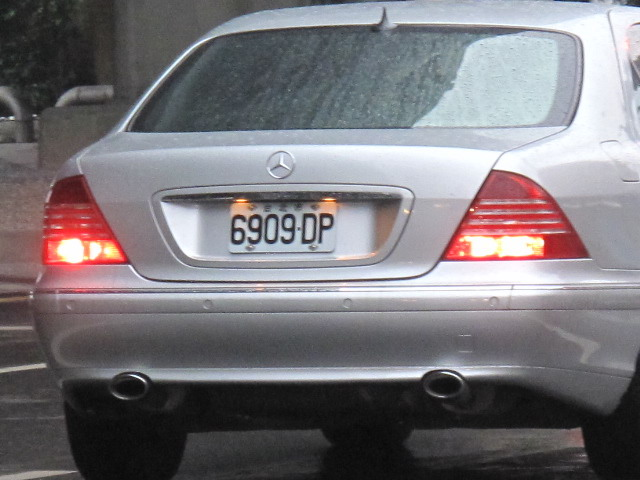plate: (227, 199, 337, 258)
